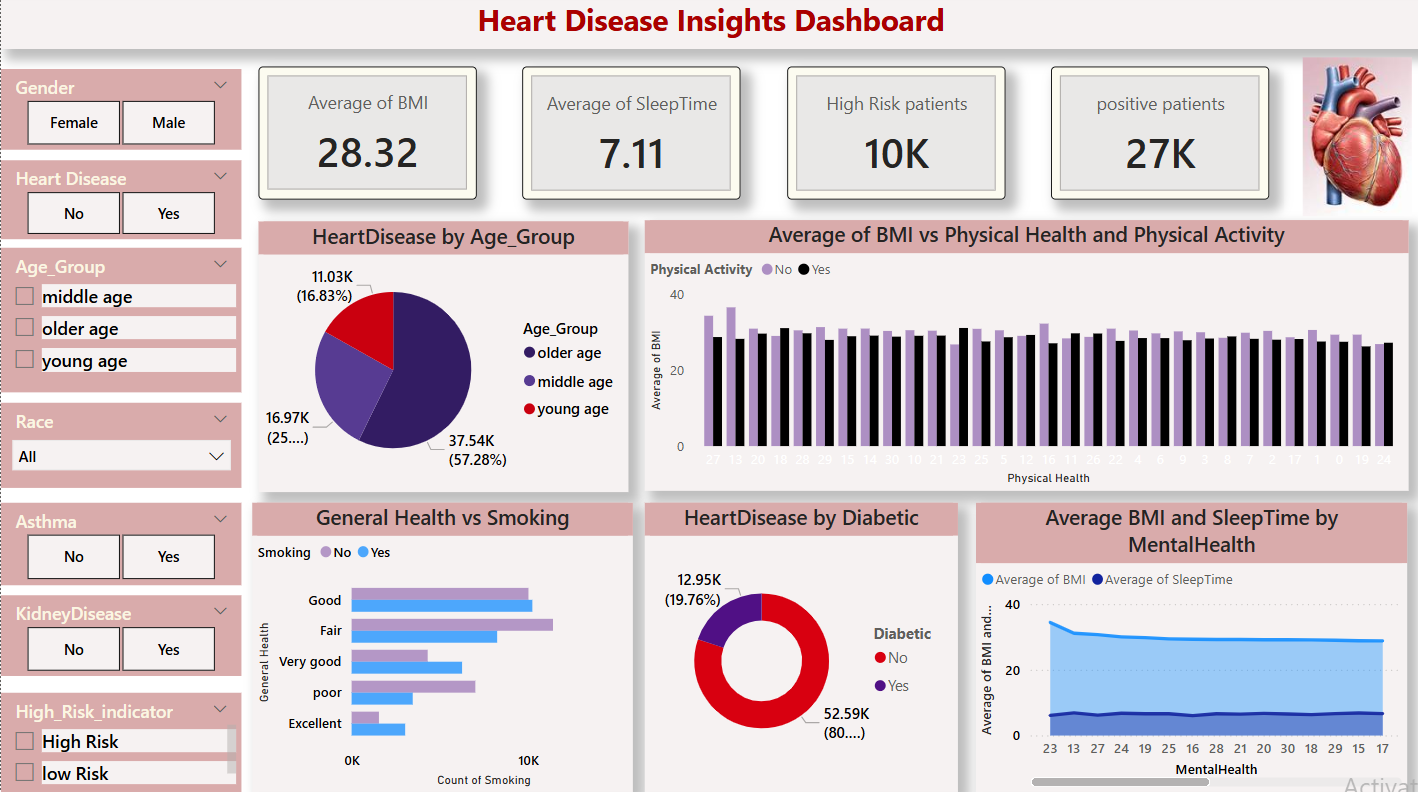

The page's visual inventory and layout, read from the dashboard file:
{"tool":"powerbi","page":{"name":"Page 1","canvas":[1280,720],"ordinal":0},"visuals":[{"type":"textbox","box":[0,0,1280.3,49.4],"z":0},{"type":"slicer","fields":{"Values":["data.Sex"]},"box":[0,67.2,216.8,72.7],"z":1000},{"type":"slicer","fields":{"Values":["data.HeartDisease"]},"box":[0,149.6,216.8,71.4],"z":2000},{"type":"slicer","fields":{"Values":["data.Age_Group"]},"box":[0,229.2,216.8,130.4],"z":3000},{"type":"slicer","fields":{"Values":["data.Race"]},"box":[0,369.1,216.8,76.8],"z":4000},{"type":"slicer","fields":{"Values":["data.Asthma"]},"box":[0,458.3,216.8,74.1],"z":5000},{"type":"slicer","fields":{"Values":["data.KidneyDisease"]},"box":[0,542,216.8,72.7],"z":6000},{"type":"slicer","fields":{"Values":["data.High_Risk_indicator"]},"box":[0,630,216.7,89.8],"z":7000},{"type":"cardVisual","fields":{"Data":["Avg(data.BMI)"]},"box":[232.3,65.6,196.7,119.7],"z":8000},{"type":"cardVisual","fields":{"Data":["Avg(data.SleepTime)"]},"box":[470.4,65.6,196.8,120],"z":9000},{"type":"cardVisual","fields":{"Data":["Sum(data.No_of_people in high risk)"]},"box":[709.1,65.6,196.8,120],"z":10000},{"type":"cardVisual","fields":{"Data":["data.patient_suffringheartdisease"]},"box":[946.4,65.6,196.8,120],"z":11000},{"type":"pieChart","title":" HeartDisease by Age_Group","fields":{"Category":["data.Age_Group"],"Y":["CountNonNull(data.HeartDisease)"]},"box":[232.3,205.3,333.5,243.7],"z":12000},{"type":"clusteredColumnChart","title":"Average of BMI vs Physical Health and Physical Activity","fields":{"Y":["Avg(data.BMI)"],"Category":["data.PhysicalHealth"],"Series":["data.PhysicalActivity"]},"box":[580.1,203.8,688.5,243.7],"z":13000},{"type":"clusteredBarChart","title":" General Health vs Smoking","fields":{"Y":["CountNonNull(data.Smoking)"],"Category":["data.GenHealth"],"Series":["data.Smoking"]},"box":[226.6,459,343.5,260.8],"z":14000},{"type":"donutChart","title":" HeartDisease by Diabetic","fields":{"Category":["data.Diabetic"],"Y":["CountNonNull(data.HeartDisease)"]},"box":[580.1,459,282.2,260.8],"z":15000},{"type":"areaChart","title":"Average BMI and SleepTime by MentalHealth","fields":{"Category":["data.MentalHealth"],"Y":["Avg(data.BMI)","Avg(data.SleepTime)"]},"box":[879,459,389,261],"z":16000},{"type":"image","box":[1166.9,50.3,113.1,154.9],"z":17000}]}

Visuals, with their boxes in screenshot pixels (x1, y1, x2, y2), scaled from the page's 1280x720 canvas onto the 1418x792 screenshot:
textbox: BBox(0, 0, 1417, 54)
slicer - data.Sex: BBox(0, 74, 240, 154)
slicer - data.HeartDisease: BBox(0, 165, 240, 243)
slicer - data.Age_Group: BBox(0, 252, 240, 396)
slicer - data.Race: BBox(0, 406, 240, 490)
slicer - data.Asthma: BBox(0, 504, 240, 586)
slicer - data.KidneyDisease: BBox(0, 596, 240, 676)
slicer - data.High_Risk_indicator: BBox(0, 693, 240, 791)
cardVisual - Avg(data.BMI): BBox(257, 72, 475, 204)
cardVisual - Avg(data.SleepTime): BBox(521, 72, 739, 204)
cardVisual - Sum(data.No_of_people in high risk): BBox(786, 72, 1004, 204)
cardVisual - data.patient_suffringheartdisease: BBox(1048, 72, 1266, 204)
" HeartDisease by Age_Group" pieChart: BBox(257, 226, 627, 494)
"Average of BMI vs Physical Health and Physical Activity" clusteredColumnChart: BBox(643, 224, 1405, 492)
" General Health vs Smoking" clusteredBarChart: BBox(251, 505, 632, 791)
" HeartDisease by Diabetic" donutChart: BBox(643, 505, 955, 791)
"Average BMI and SleepTime by MentalHealth" areaChart: BBox(974, 505, 1405, 791)
image: BBox(1293, 55, 1417, 226)
